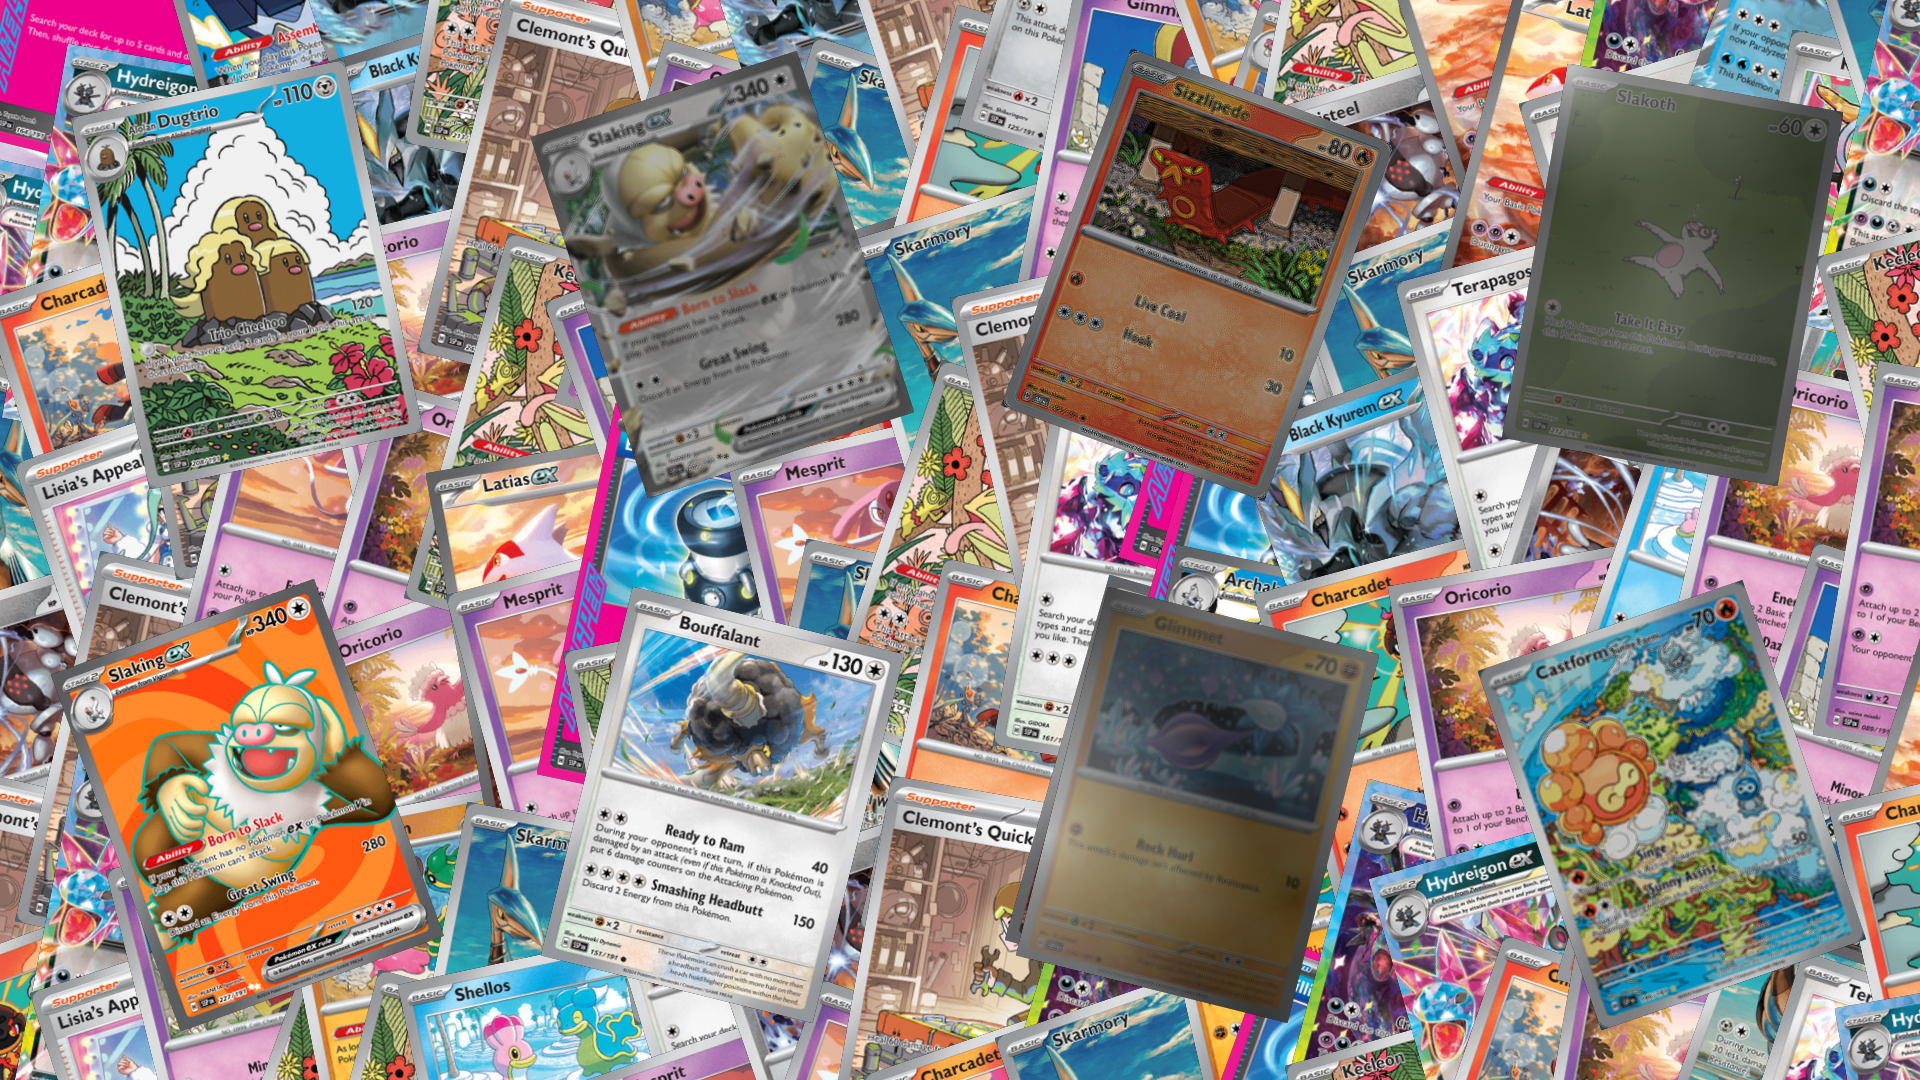Alolan_Dugtrio: (70, 59, 423, 489)
Bouffalant: (541, 585, 905, 1023)
Castform_Sunny_Form: (1477, 579, 1866, 1030)
Glimmet: (1015, 585, 1379, 1023)
Sizzlipede: (1000, 47, 1394, 501)
Slaking_ex: (50, 578, 444, 1031), (530, 50, 914, 498)
Slakoth: (1501, 63, 1844, 487)
